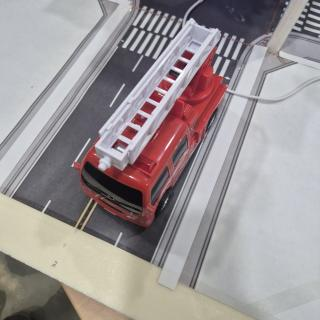Fire_truck: (74, 20, 226, 227)
